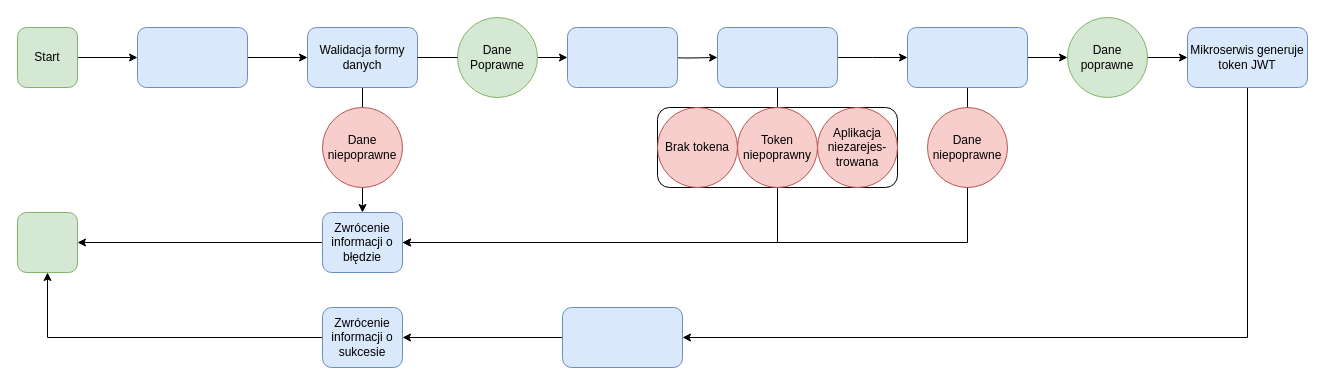
Some shapes in this 1325 by 385 pixel diagram are drawn without their labels. The centre of each missing label's shape, as x and y in pixels:
"API wysyła dane do App Auth" goes at point (622, 57).
"Koniec" goes at point (47, 242).
"Mikroserwis waliduje poprawność danych autentykacyjnych użytkownika" goes at point (967, 57).
"Mikroserwis waliduje poprawność tokena autentykacji aplikacji" goes at point (777, 57).
"Mikroserwis zwraca token użytkownika" goes at point (622, 337).
"Użytkownik wprowadza dane logowania" goes at point (192, 57).
